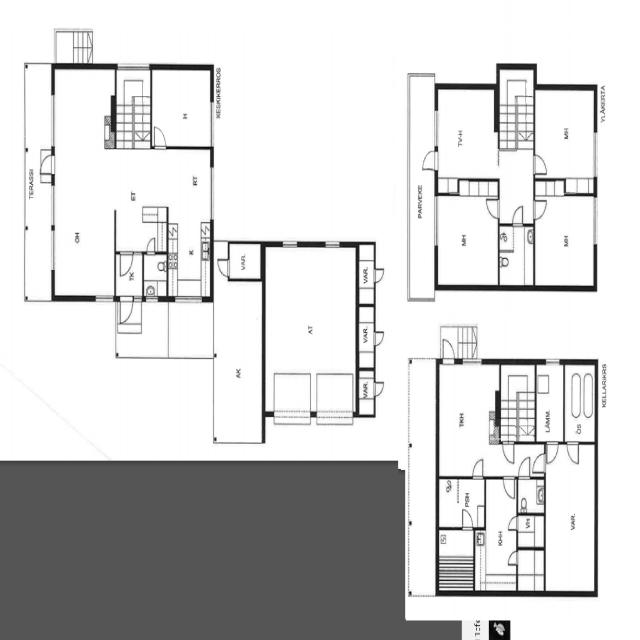door: (419, 144, 442, 174), (116, 248, 136, 278), (523, 448, 543, 478), (439, 335, 457, 366), (118, 292, 135, 324), (38, 152, 56, 180), (484, 195, 502, 221), (152, 122, 168, 151), (500, 436, 516, 464), (470, 454, 486, 481), (566, 438, 581, 466), (545, 438, 560, 466), (532, 196, 548, 222), (516, 454, 532, 479), (532, 151, 548, 176), (502, 473, 517, 499), (533, 449, 547, 475), (217, 254, 233, 276), (511, 203, 525, 228), (372, 264, 387, 285), (460, 507, 474, 529), (144, 233, 157, 256), (506, 548, 520, 568), (506, 514, 520, 532), (372, 328, 385, 347), (372, 378, 384, 398)
window: (47, 181, 59, 279), (268, 408, 316, 429), (314, 410, 355, 430), (430, 188, 441, 250), (590, 191, 601, 248), (48, 89, 58, 149), (590, 128, 601, 182), (207, 98, 218, 149), (172, 290, 204, 306), (208, 164, 216, 222), (460, 353, 486, 369), (116, 60, 150, 72), (92, 288, 116, 304), (432, 106, 441, 148), (541, 354, 564, 369), (322, 235, 342, 251), (280, 237, 301, 250), (144, 291, 160, 304)
zone: (263, 242, 358, 406), (51, 150, 116, 296), (51, 67, 138, 169), (544, 441, 597, 593), (438, 360, 500, 478), (168, 147, 212, 299), (437, 182, 497, 290), (534, 84, 596, 184), (437, 85, 498, 185), (534, 191, 596, 288), (116, 146, 166, 252), (152, 65, 212, 147), (480, 478, 518, 588), (500, 358, 536, 442), (564, 358, 597, 442), (437, 526, 474, 593), (438, 477, 485, 527), (536, 359, 564, 442), (499, 224, 535, 287), (517, 546, 546, 592), (229, 242, 263, 280), (515, 474, 547, 514), (357, 240, 376, 302), (143, 253, 168, 299), (358, 305, 376, 367), (517, 513, 546, 548), (356, 370, 375, 414)
